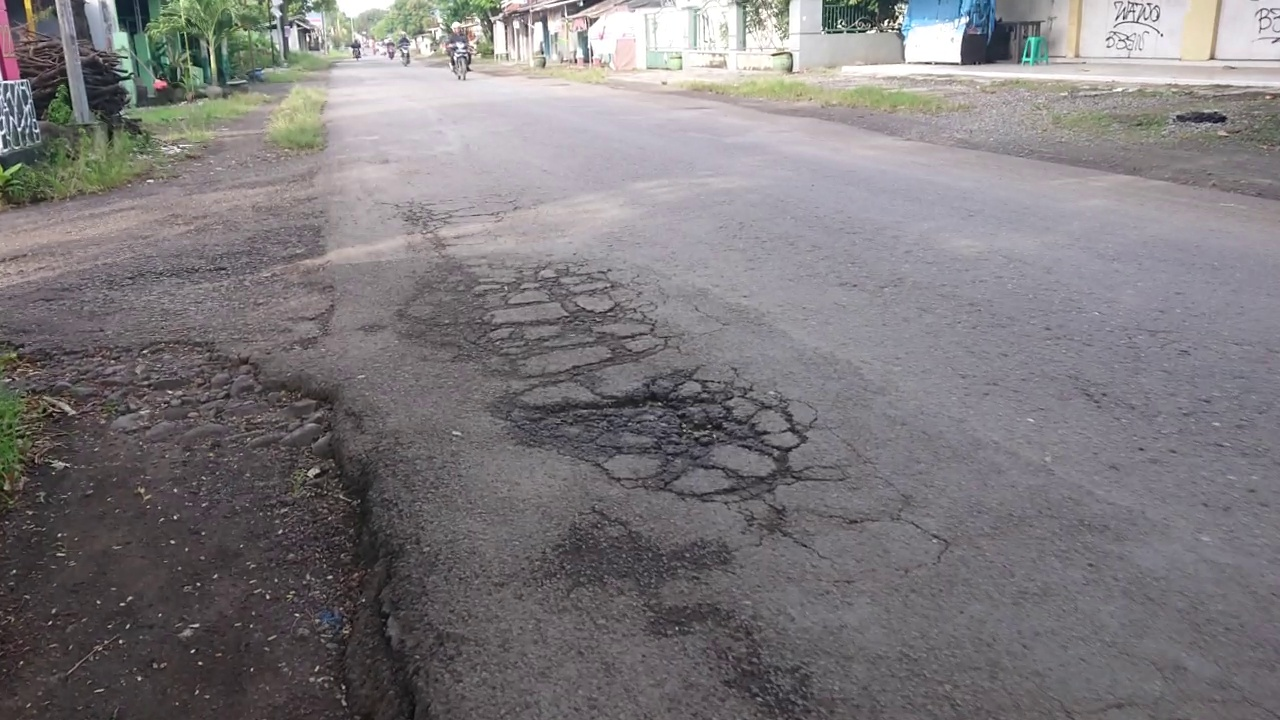Retak: (444, 268, 825, 552)
